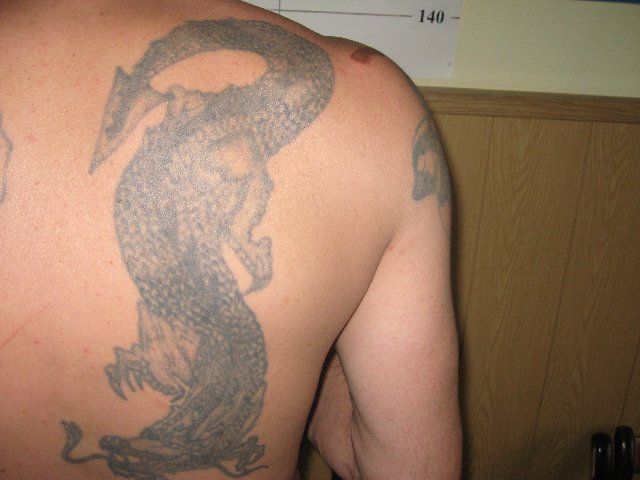tatu6_drakon: (70, 14, 373, 480)
